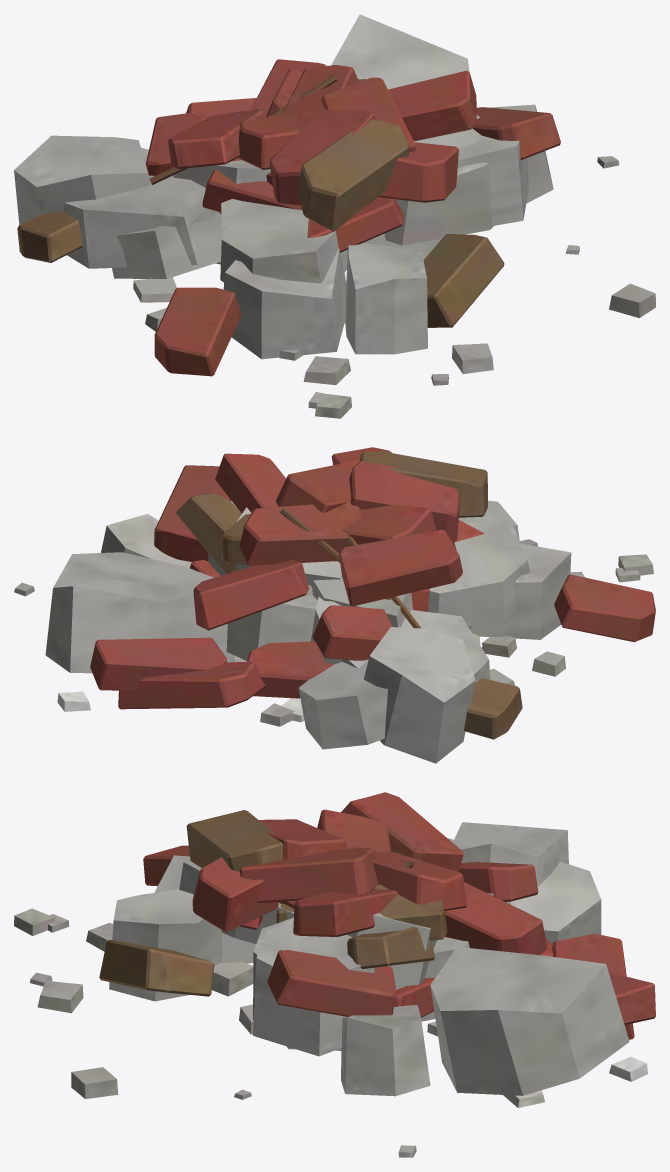
Rendered from R27_rubble_pile.glb.
The picture shows the model from 3 angles, top to bottom: view 1: azimuth 30°, elevation 25°; view 2: azimuth 150°, elevation 25°; view 3: azimuth 270°, elevation 25°; orthographic projection. The views are drawn at different scales.
Parts seen in each view (by area): view 1: Broken concrete; view 2: Broken concrete; view 3: Broken concrete.
Part boxes in pixels (box(x1,y1,x2,y2)): Broken concrete: box(14, 14, 655, 418); Broken concrete: box(14, 447, 655, 763); Broken concrete: box(14, 792, 655, 1157).
Bounding box in the file's own units: 2 × 0.5693 × 1.96.
6 materials, 6 textured.
